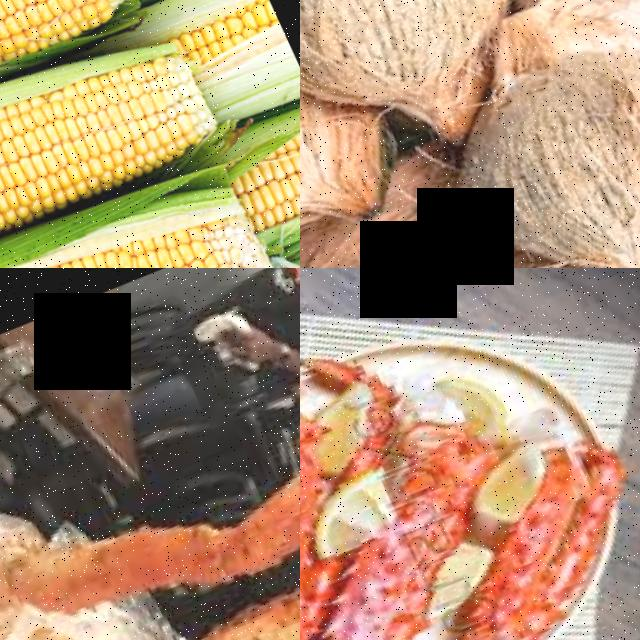coconut: (419, 0, 640, 268), (300, 0, 559, 152)
corn: (0, 0, 230, 268), (0, 123, 293, 268), (0, 0, 143, 229), (224, 100, 300, 233)
crab: (0, 334, 300, 640), (415, 457, 640, 640), (58, 503, 300, 640), (300, 515, 467, 640), (300, 489, 366, 640)
